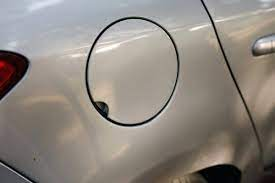closed: (81, 13, 183, 127)
